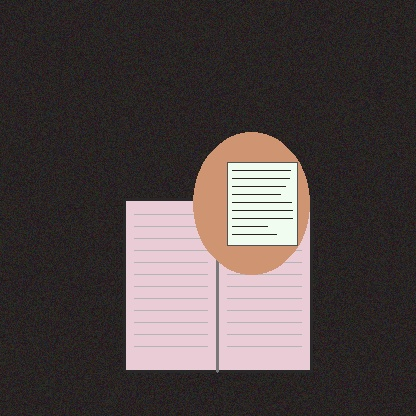book: (124, 199, 311, 371)
exam_chit: (227, 162, 297, 245)
